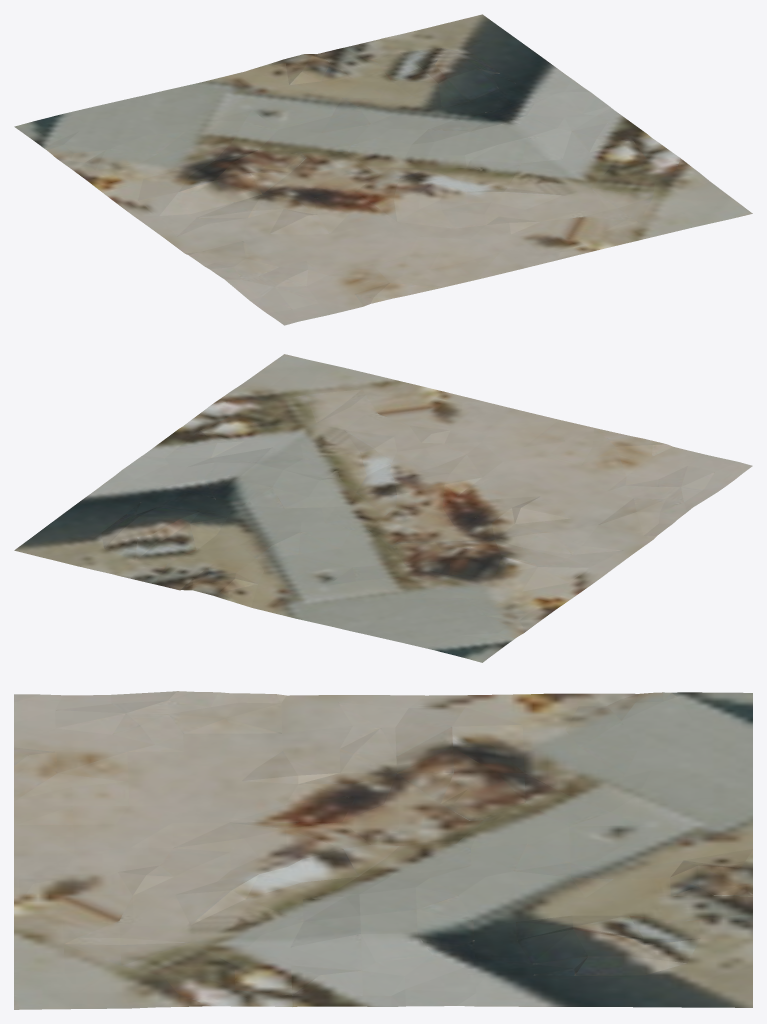
3 renders of one model, top to bottom at view 1: azimuth 30°, elevation 25°; view 2: azimuth 150°, elevation 25°; view 3: azimuth 270°, elevation 25°, orthographic. The views are drawn at different scales.
Size of the model in its own units: 52.22 by 1.04 by 52.22.
Materials: 3 (3 with a texture image).
